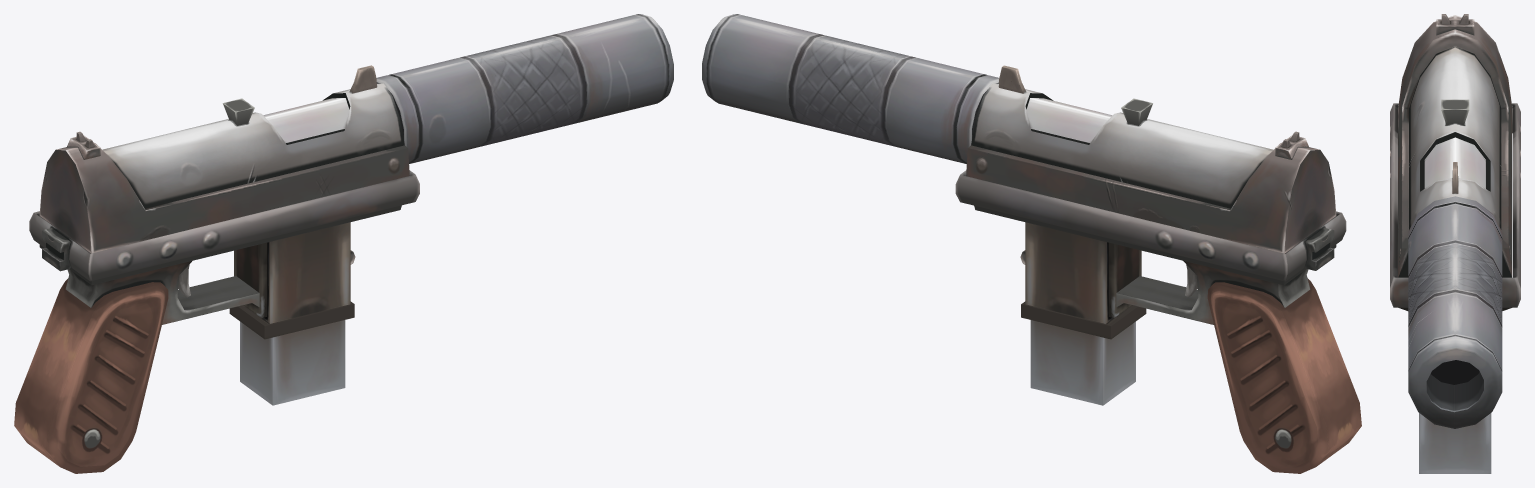
Rendered from old_stylized_agent_pistol_handpainted.glb.
3 views of the same model, side by side, from view 1: azimuth 30°, elevation 25°; view 2: azimuth 150°, elevation 25°; view 3: azimuth 270°, elevation 25° (orthographic). The views are drawn at different scales.
Parts seen in each view (by area): view 1: Pistol.001; view 2: Pistol.001; view 3: Pistol.001.
Boxes of the visible parts, left/top/right/bottom form: Pistol.001: left=14, top=14, right=673, bottom=473; Pistol.001: left=702, top=14, right=1361, bottom=473; Pistol.001: left=1390, top=14, right=1520, bottom=473.
Bounding box in the file's own units: 4.31 × 2.14 × 0.7113.
1 material, 1 textured.
